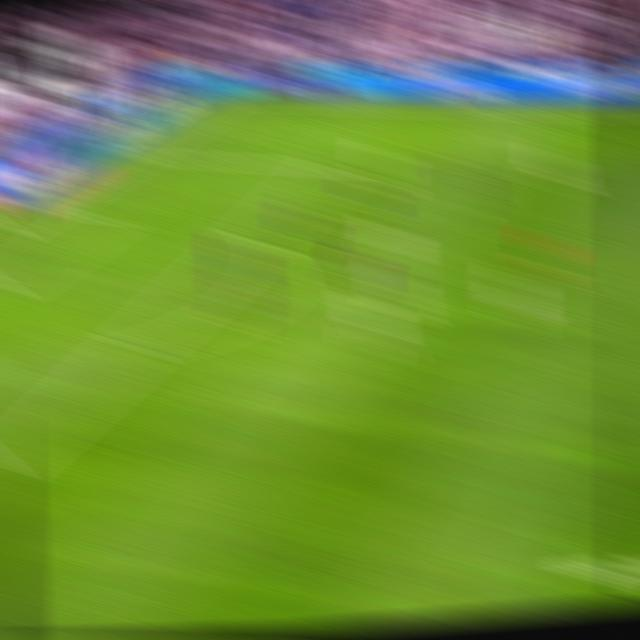bigarea_top_inner: (318, 154, 350, 181)
bigarea_top_outter: (106, 141, 139, 163)
bottom_arc_area_intersection: (120, 330, 157, 363)
corner: (191, 88, 225, 108)
smallarea_top_inner: (90, 204, 122, 227)
top_arc_area_intersection: (242, 225, 274, 250)
